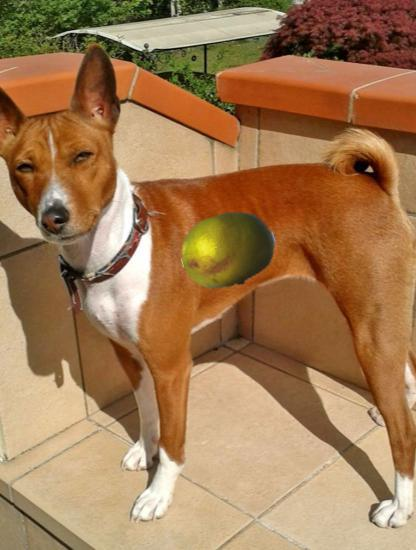Pomelo: (180, 202, 276, 298)
